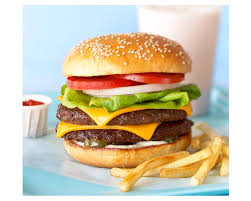hamburger: (55, 31, 204, 172)
